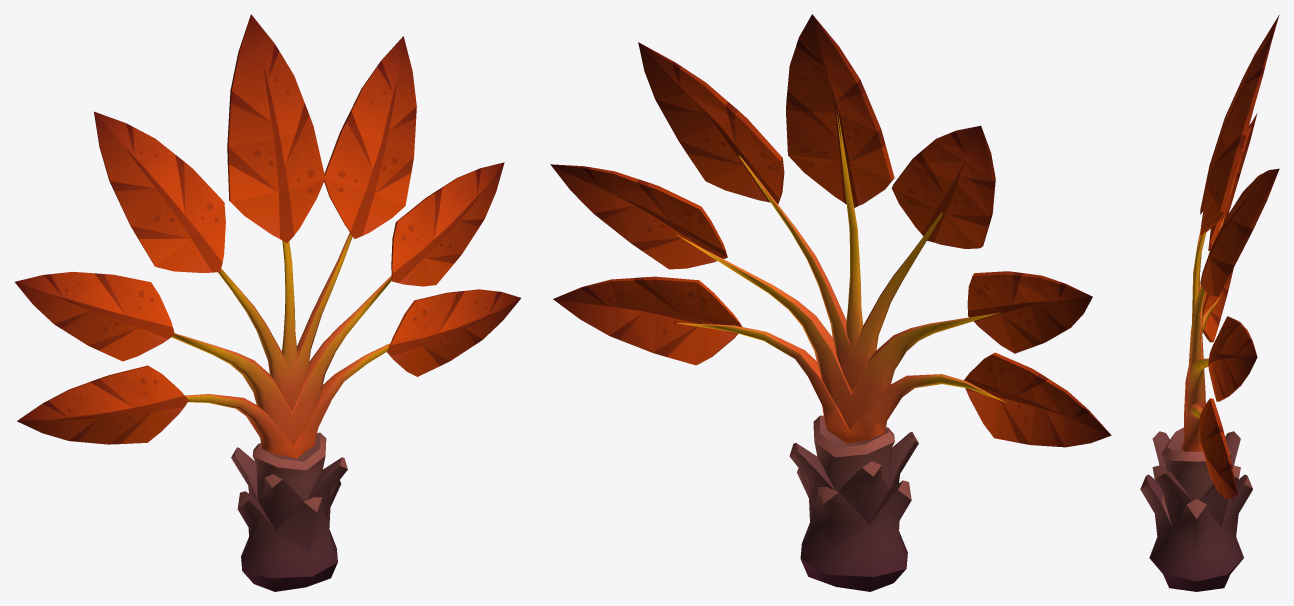
Rendered from banana1.glb.
The picture shows the model from 3 angles, left to right: view 1: azimuth 30°, elevation 25°; view 2: azimuth 150°, elevation 25°; view 3: azimuth 270°, elevation 25°; orthographic projection. The views are drawn at different scales.
Visible parts, largest first — view 1: banana1; view 2: banana1; view 3: banana1.
Part boxes in pixels (x1,y1,x2,y2): banana1: [15, 14, 521, 591]; banana1: [550, 14, 1111, 591]; banana1: [1140, 15, 1279, 591].
Size of the model in its own units: 5.16 by 5.21 by 1.21.
Materials: 1 (1 with a texture image).
